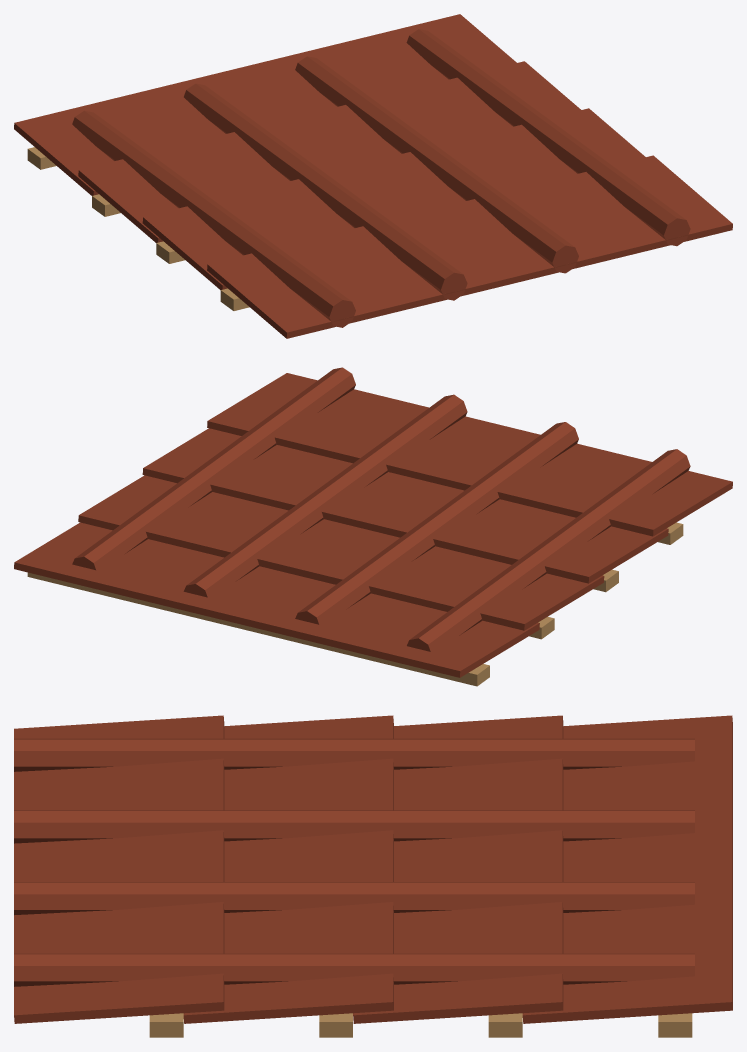
The model's file is roof.covering.clay_tile.glb.
The picture shows the model from 3 angles, top to bottom: view 1: azimuth 30°, elevation 25°; view 2: azimuth 150°, elevation 25°; view 3: azimuth 270°, elevation 25°; orthographic projection. The views are drawn at different scales.
Visible parts, largest first — view 1: main__clay_tile, main__softwood; view 2: main__clay_tile, main__softwood; view 3: main__clay_tile, main__softwood.
Boxes of the visible parts, x1,y1,x2,y2 form: main__clay_tile: [14, 14, 732, 338]; main__softwood: [27, 147, 249, 310]; main__clay_tile: [14, 367, 732, 677]; main__softwood: [27, 522, 683, 686]; main__clay_tile: [14, 715, 732, 1023]; main__softwood: [149, 1013, 692, 1037].
Size of the model in its own units: 1.01 by 0.075 by 1.06.
